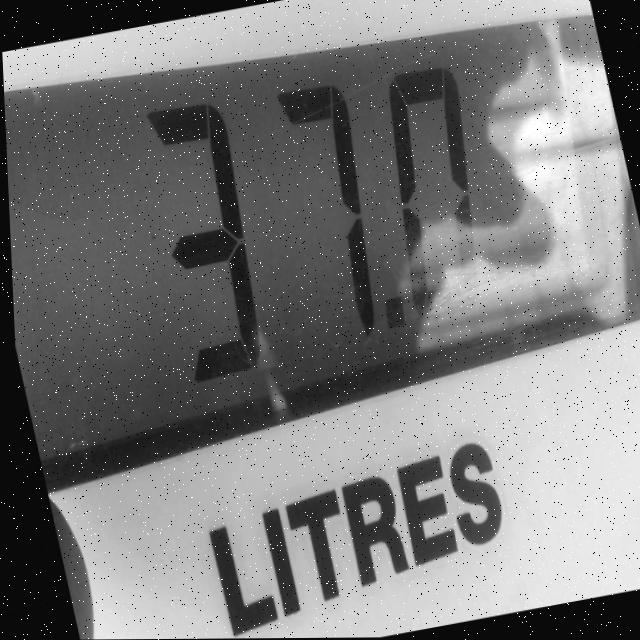.: (375, 288, 414, 349)
0: (363, 59, 527, 348)
3: (138, 98, 290, 398)
7: (272, 79, 398, 354)
